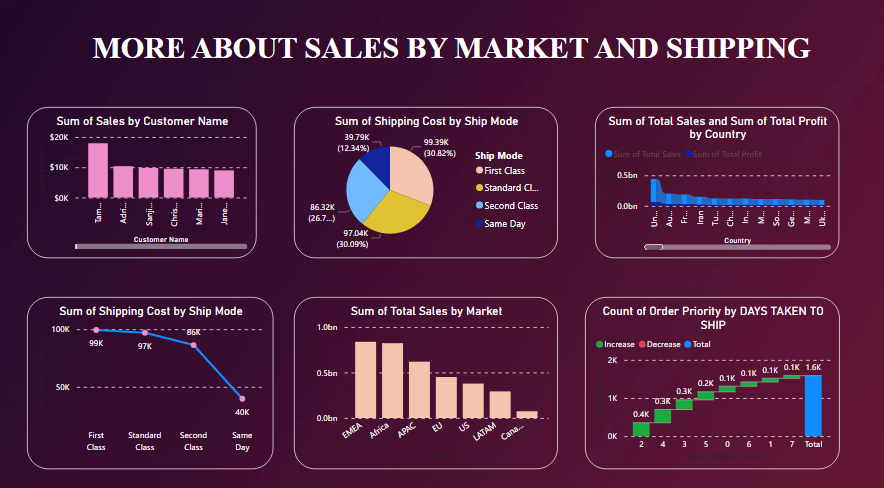

The page's visual inventory and layout, read from the dashboard file:
{"tool":"powerbi","page":{"name":"Page 2","canvas":[1280,720],"ordinal":1},"visuals":[{"type":"lineChart","fields":{"Category":["Orders.Ship Mode"],"Y":["Orders.Shipping Cost"]},"box":[44.3,429.5,352.5,245.9],"z":0},{"type":"lineClusteredColumnComboChart","fields":{"Category":["Orders.Customer Name"],"Y":["Orders.Sales"]},"box":[44.3,159,327.9,216.4],"z":1000},{"type":"pieChart","fields":{"Category":["Orders.Ship Mode"],"Y":["Orders.Shipping Cost"]},"box":[426.2,159,377,216.4],"z":2000},{"type":"ribbonChart","fields":{"Category":["Orders.Country"],"Y":["Orders.Total Sales","Orders.Total Profit"]},"box":[855.7,159,349.2,216.4],"z":3000},{"type":"lineStackedColumnComboChart","fields":{"Category":["Orders.Market"],"Y":["Orders.Total Sales"]},"box":[426.2,429.5,377,245.9],"z":4000},{"type":"waterfallChart","fields":{"Category":["Orders.DAYS TAKEN TO SHIP"],"Y":["Orders.Order Priority"]},"box":[841,429.5,363.9,245.9],"z":5000},{"type":"textbox","box":[132.8,44.3,1147.5,90.2],"z":6000}]}

Visuals, with their boxes in screenshot pixels (x1, y1, x2, y2), scaled from the page's 1280x720 canvas onto the 884x488 screenshot:
lineChart - Orders.Ship Mode x Orders.Shipping Cost: (31,291,274,458)
lineClusteredColumnComboChart - Orders.Customer Name x Orders.Sales: (31,108,257,254)
pieChart - Orders.Ship Mode x Orders.Shipping Cost: (294,108,555,254)
ribbonChart - Orders.Country x Orders.Total Sales: (591,108,832,254)
lineStackedColumnComboChart - Orders.Market x Orders.Total Sales: (294,291,555,458)
waterfallChart - Orders.DAYS TAKEN TO SHIP x Orders.Order Priority: (581,291,832,458)
textbox: (92,30,883,91)
